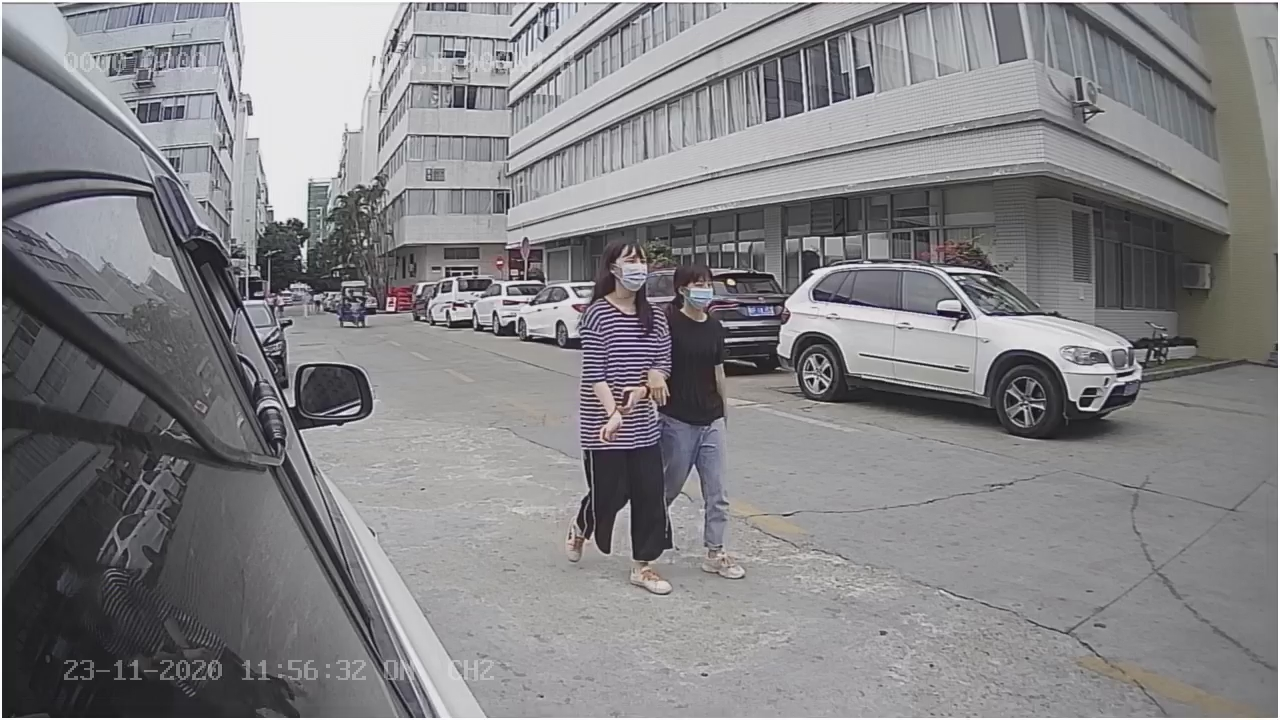person: (559, 234, 671, 601), (646, 265, 752, 578)
